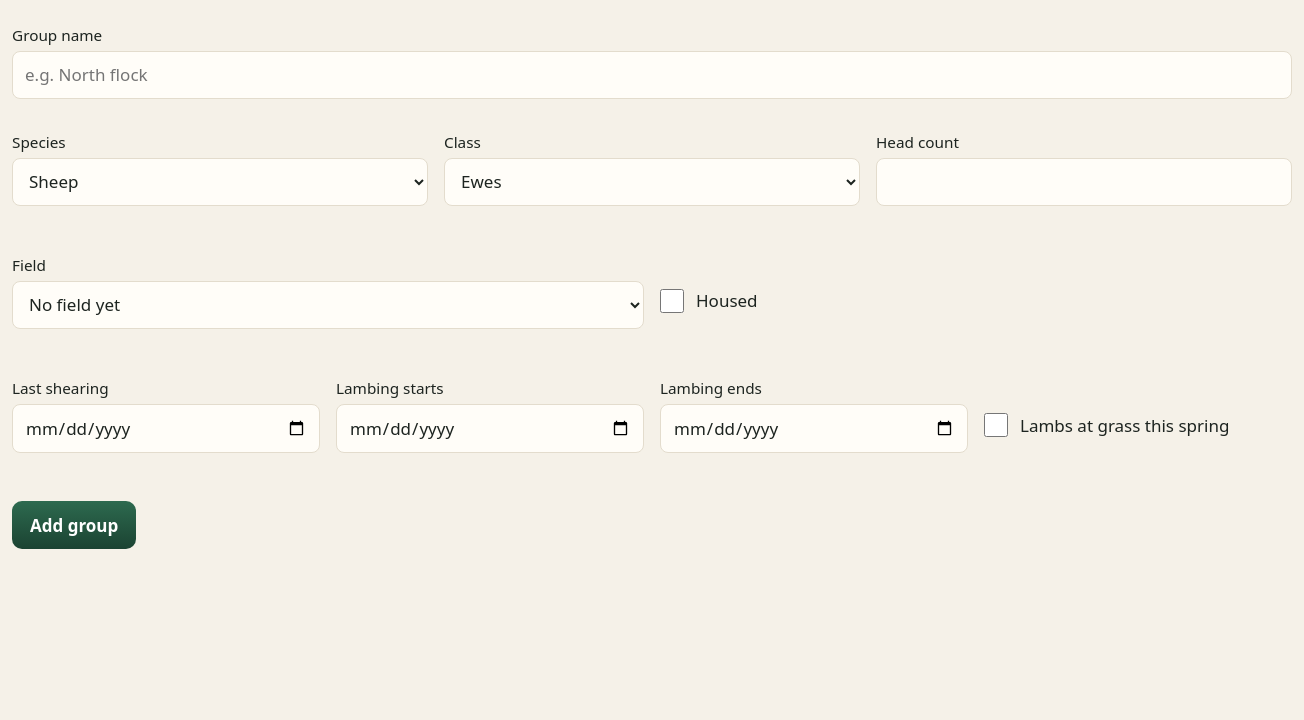
Test case: GroupForm (FR-2.3, FR-2.5) › shows sheep details for sheep and cattle details for cattle
Expected: the date field labelled "Last shearing" is shown, left=12, top=404, right=320, bottom=453
Expected: the field labelled "Calving starts" is not shown
Select "Cattle" in the dropdown labelled "Species" at (220, 182), box left=12, top=158, right=428, bottom=206
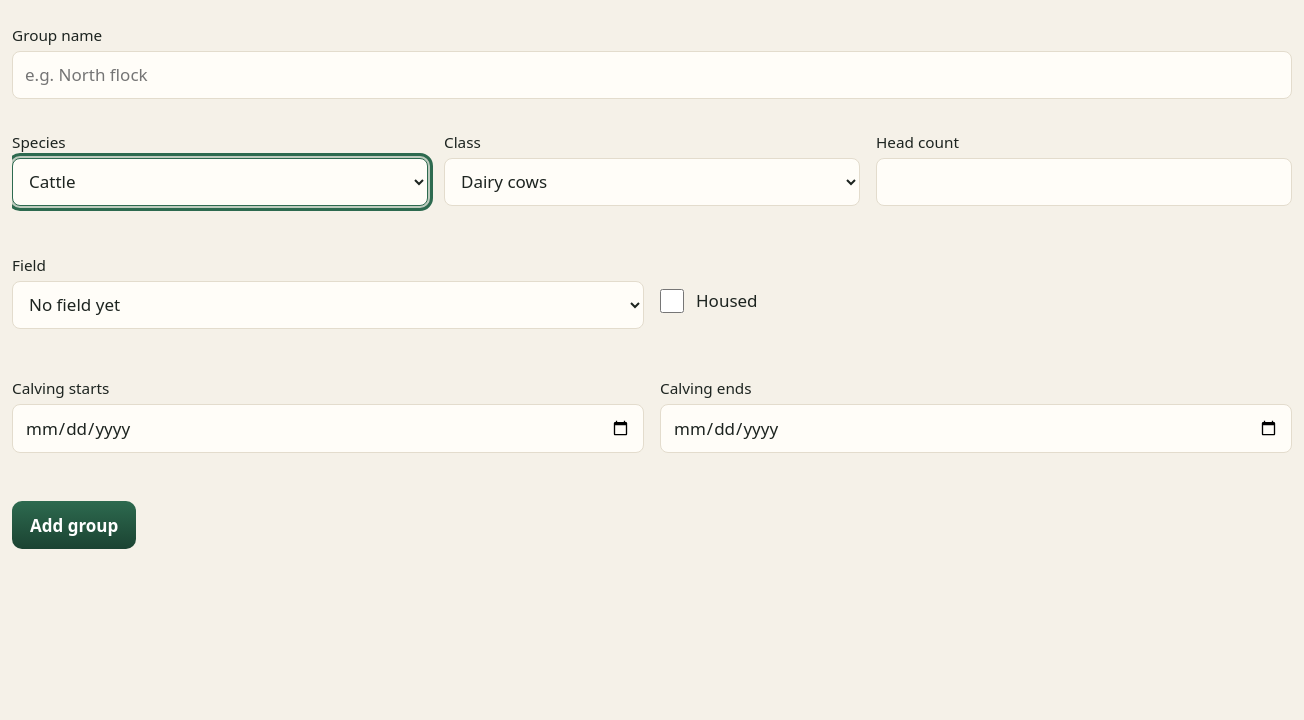
Expected: the date field labelled "Calving starts" is shown, left=12, top=404, right=644, bottom=453
Expected: the label labelled "Last shearing" is gone
